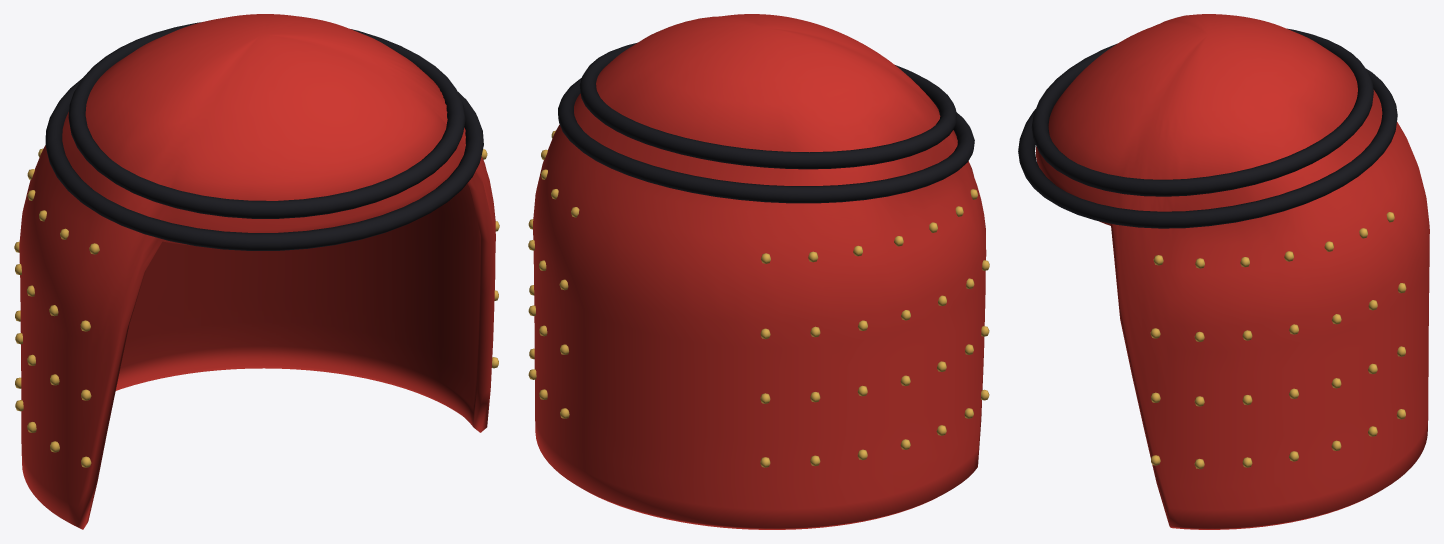
Rendered from hw_keffiyeh.glb.
3 views of the same model, side by side, from view 1: azimuth 30°, elevation 25°; view 2: azimuth 150°, elevation 25°; view 3: azimuth 270°, elevation 25° (orthographic). The views are drawn at different scales.
Parts seen in each view (by area): view 1: hw_keffiyeh, hw_keffiyeh_agal1, hw_keffiyeh_agal0, hw_keffiyeh@pattern_p; view 2: hw_keffiyeh, hw_keffiyeh_agal0, hw_keffiyeh_agal1, hw_keffiyeh@pattern_p; view 3: hw_keffiyeh, hw_keffiyeh_agal1, hw_keffiyeh_agal0, hw_keffiyeh@pattern_p.
Boxes of the visible parts, x1,y1,x2,y2 form: hw_keffiyeh: (19,14,495,529); hw_keffiyeh_agal1: (68,22,465,218); hw_keffiyeh_agal0: (45,78,483,250); hw_keffiyeh@pattern_p: (14,148,499,467); hw_keffiyeh: (533,14,986,529); hw_keffiyeh_agal0: (558,78,974,203); hw_keffiyeh_agal1: (579,42,957,169); hw_keffiyeh@pattern_p: (528,130,989,467); hw_keffiyeh: (1035,14,1429,529); hw_keffiyeh_agal1: (1031,28,1373,196); hw_keffiyeh_agal0: (1018,68,1397,228); hw_keffiyeh@pattern_p: (1150,212,1406,469).
Bounding box in the file's own units: 0.9928 × 0.9449 × 0.8744.
